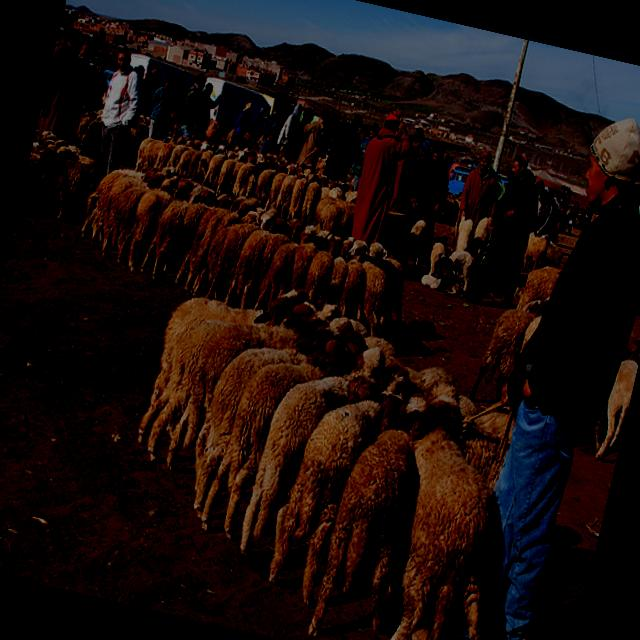Vehicle: (192, 75, 274, 151), (192, 75, 276, 145), (126, 50, 199, 91)
